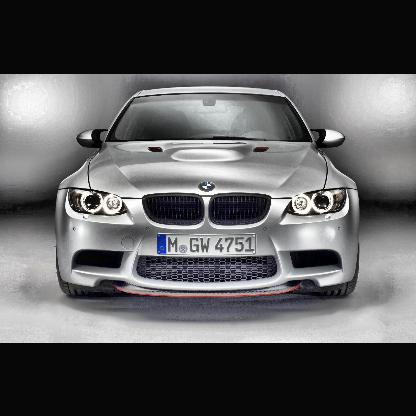BMW M3 Coupe 2012: (54, 86, 360, 304)
